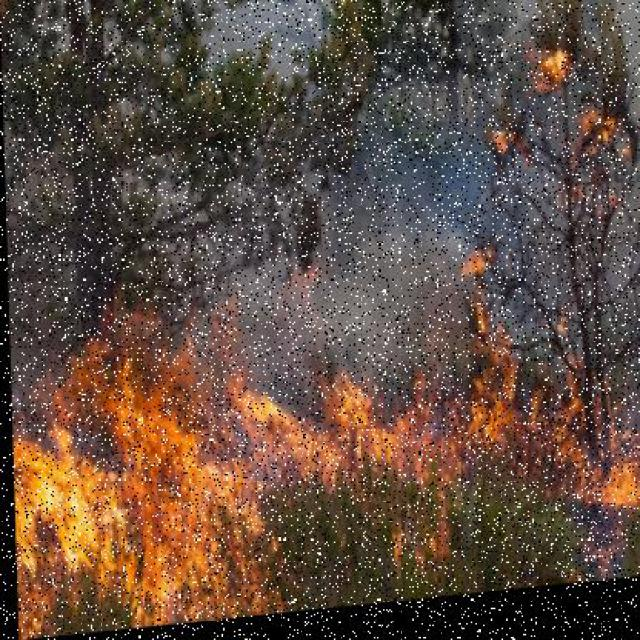fire: (12, 317, 639, 640)
